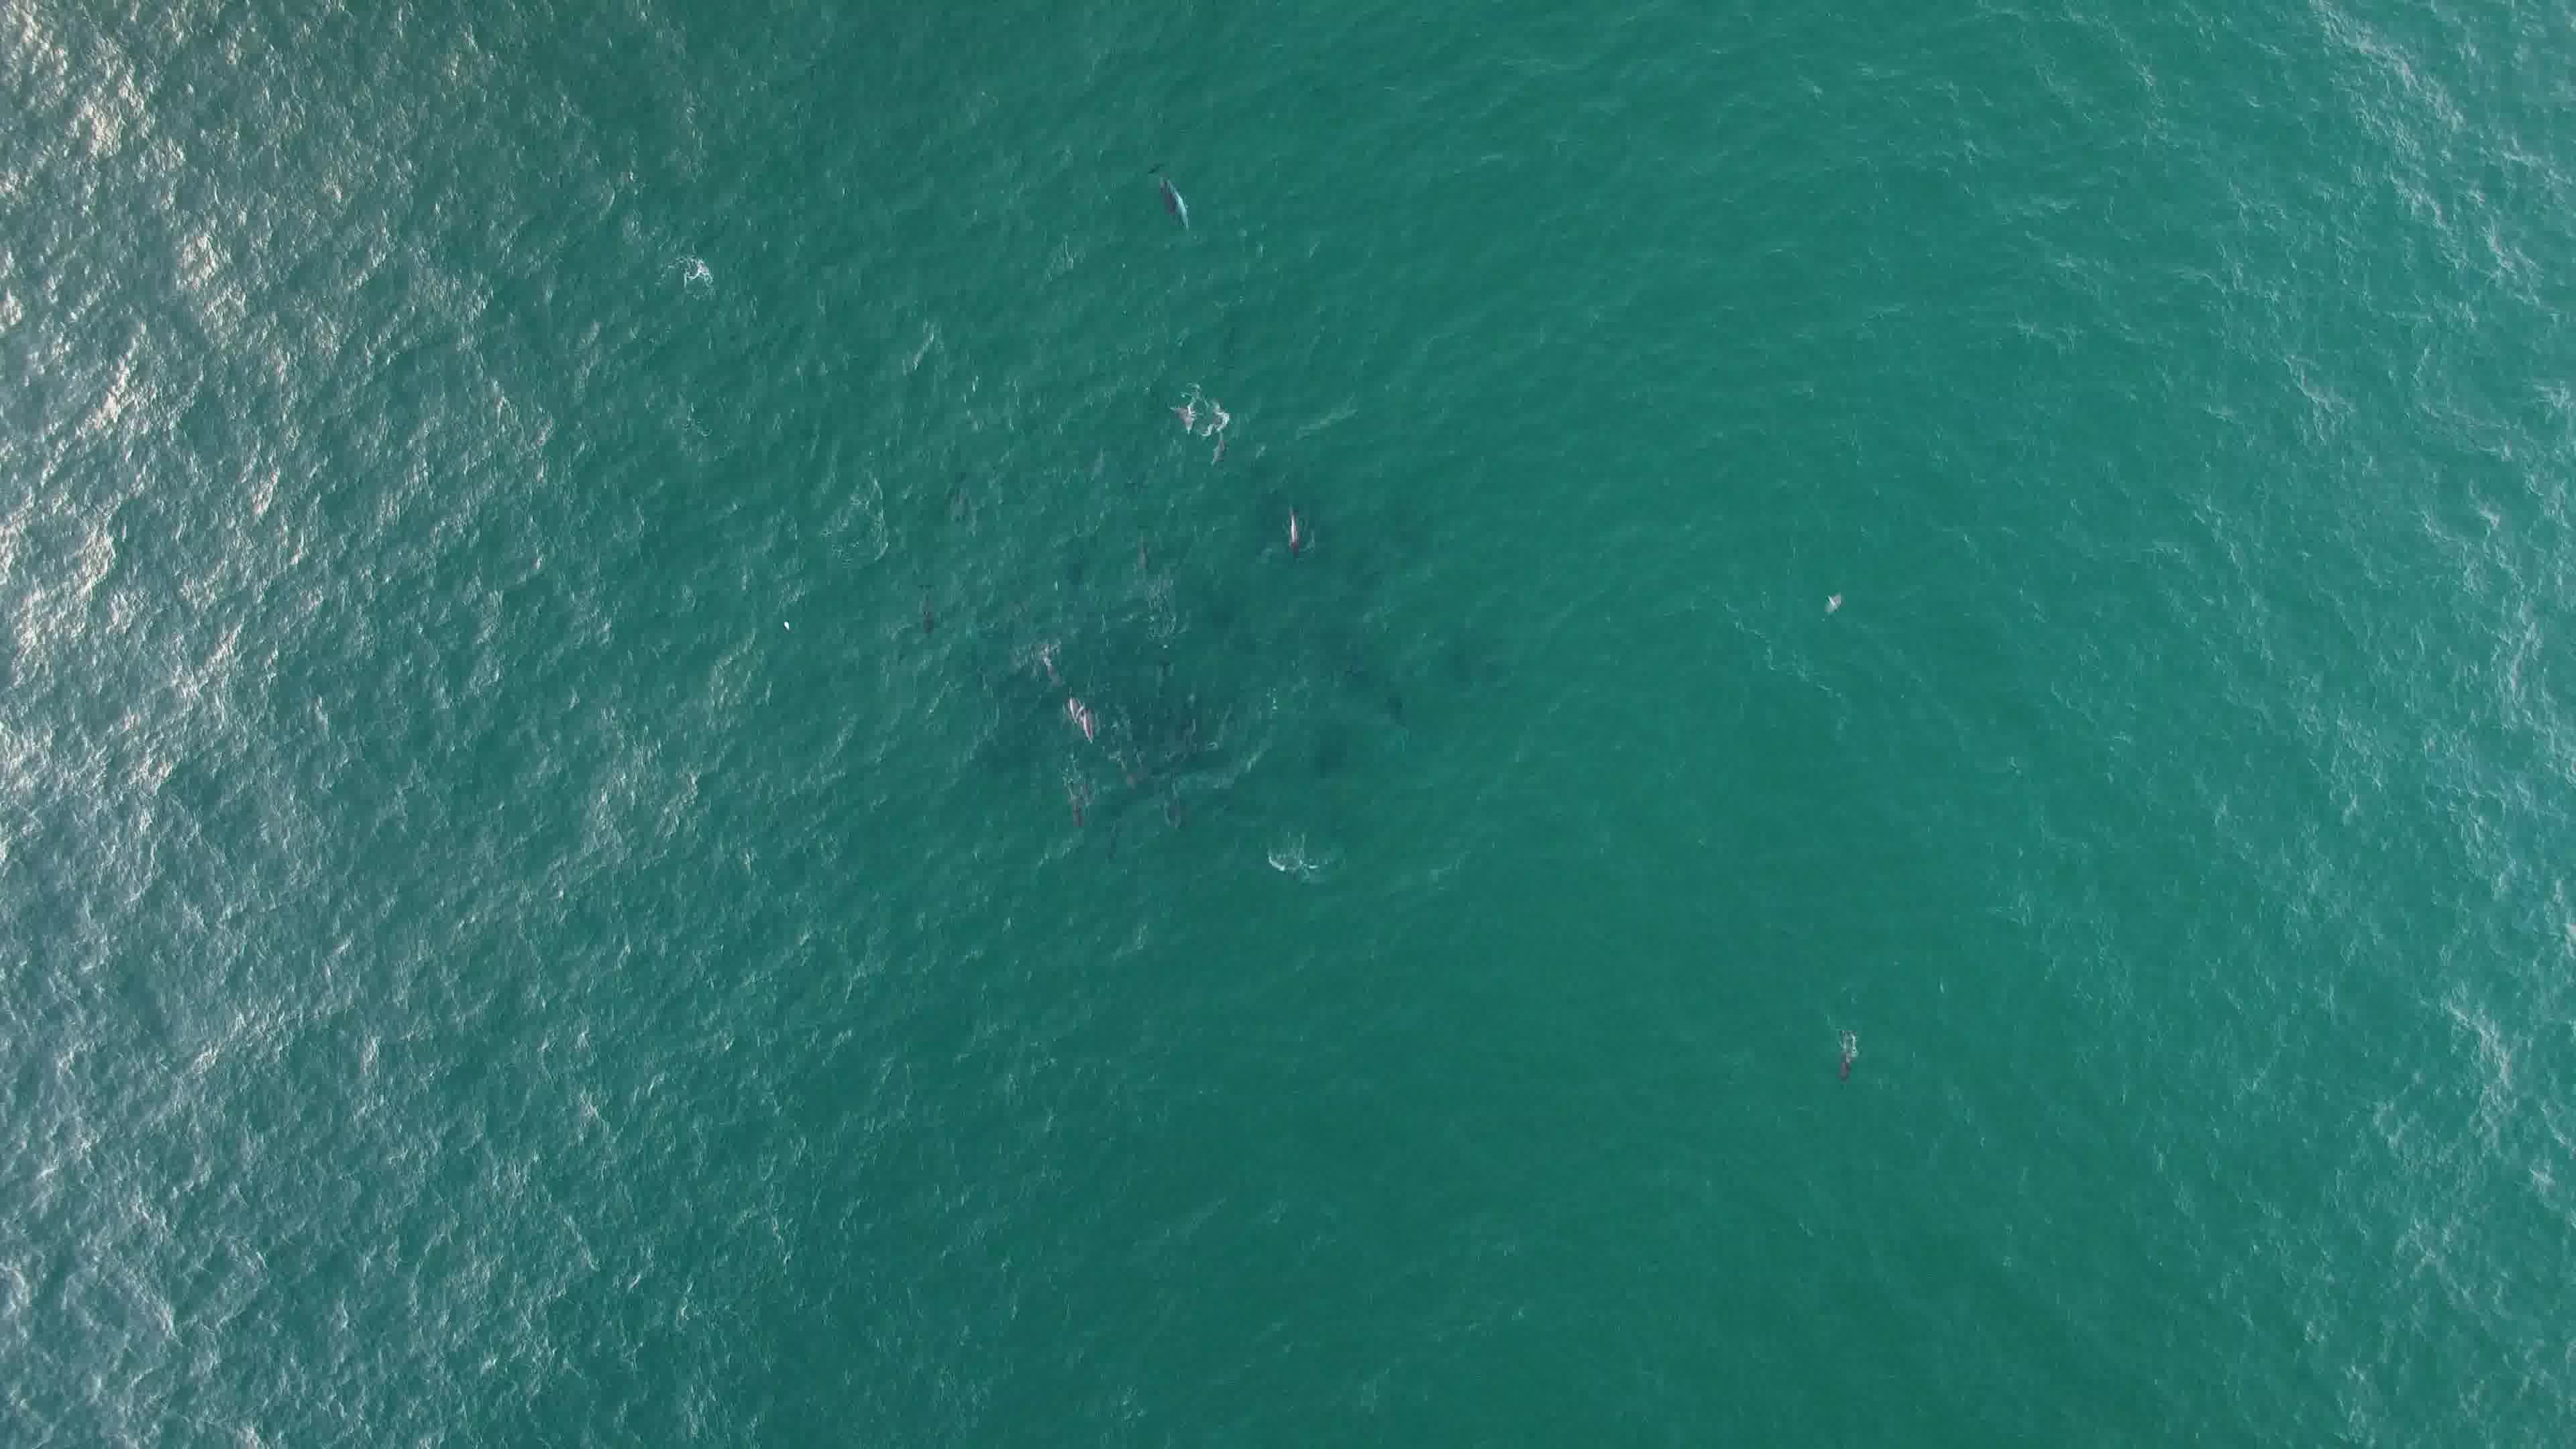dolphin: (1138, 150, 1194, 235), (1276, 497, 1313, 563), (911, 571, 945, 639), (1060, 683, 1097, 741), (1063, 773, 1090, 830)
